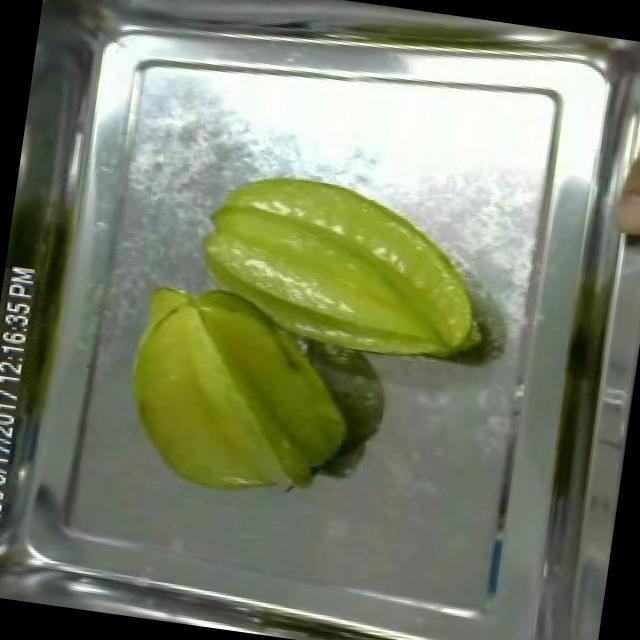fruit: (176, 156, 504, 387), (101, 267, 380, 524)
